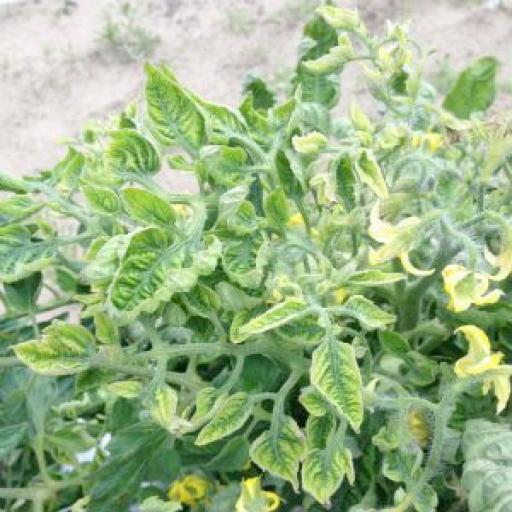disease_tomato: (110, 226, 222, 312), (143, 60, 210, 156), (8, 316, 98, 376), (310, 336, 364, 432), (248, 417, 308, 495), (0, 217, 66, 284), (302, 442, 356, 508), (188, 88, 248, 144), (115, 182, 179, 233), (193, 392, 255, 444), (222, 228, 270, 290), (238, 298, 310, 336), (106, 129, 159, 180), (348, 141, 390, 198), (216, 182, 260, 234), (200, 145, 252, 186), (266, 86, 308, 136), (345, 293, 398, 329), (342, 265, 409, 291), (264, 182, 292, 232), (156, 380, 180, 429)
